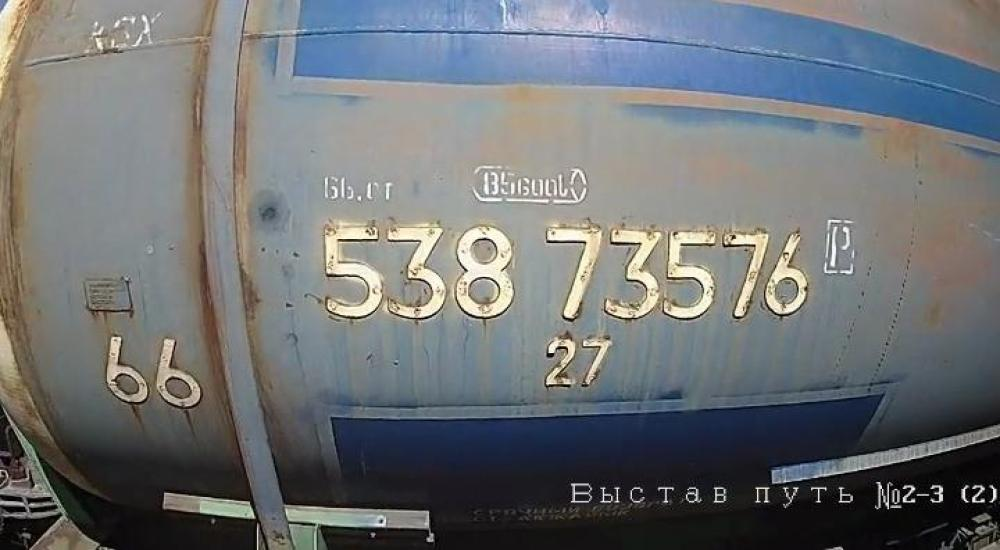Wagon-number: (313, 218, 816, 329)
